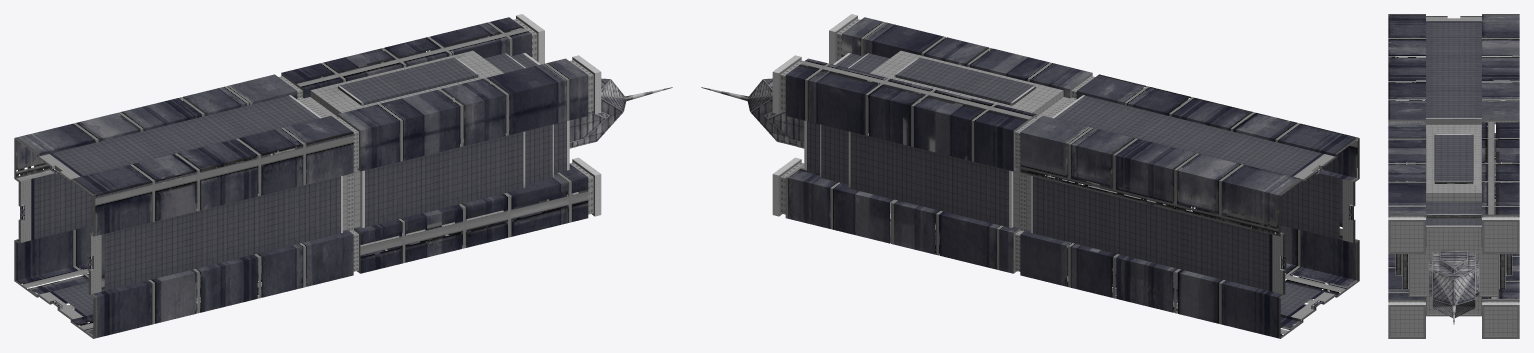
Rendered from S_BD_Skyscraper_02.dae.
3 views of the same model, side by side, from view 1: azimuth 30°, elevation 25°; view 2: azimuth 150°, elevation 25°; view 3: azimuth 270°, elevation 25° (orthographic). The views are drawn at different scales.
Visible parts, largest first — view 1: S_BD_Skyscraper_02.001, S_BD_Skyscraper_02.004, S_BD_Skyscraper_02.002, S_BD_Skyscraper_02.003; view 2: S_BD_Skyscraper_02.001, S_BD_Skyscraper_02.004, S_BD_Skyscraper_02.002, S_BD_Skyscraper_02.003; view 3: S_BD_Skyscraper_02.001, S_BD_Skyscraper_02.002, S_BD_Skyscraper_02.004, S_BD_Skyscraper_02.003.
Boxes of the visible parts, x1=… form: S_BD_Skyscraper_02.001: x1=16, y1=17, x2=588, y2=338; S_BD_Skyscraper_02.004: x1=34, y1=53, x2=566, y2=315; S_BD_Skyscraper_02.002: x1=14, y1=14, x2=672, y2=338; S_BD_Skyscraper_02.003: x1=20, y1=16, x2=626, y2=307; S_BD_Skyscraper_02.001: x1=785, y1=17, x2=1357, y2=338; S_BD_Skyscraper_02.004: x1=807, y1=53, x2=1339, y2=315; S_BD_Skyscraper_02.002: x1=701, y1=14, x2=1359, y2=338; S_BD_Skyscraper_02.003: x1=747, y1=16, x2=1353, y2=307; S_BD_Skyscraper_02.001: x1=1388, y1=15, x2=1519, y2=299; S_BD_Skyscraper_02.002: x1=1388, y1=14, x2=1519, y2=336; S_BD_Skyscraper_02.004: x1=1426, y1=22, x2=1481, y2=225; S_BD_Skyscraper_02.003: x1=1388, y1=119, x2=1519, y2=338.
Size of the model in its own units: 365 by 80.66 by 80.64.
